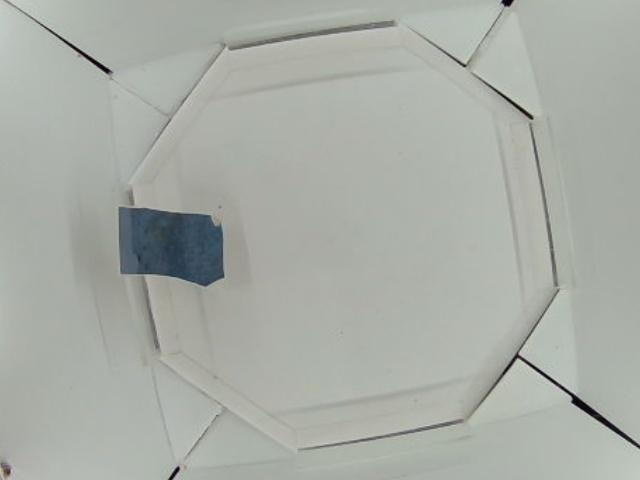China: (116, 206, 224, 289)
